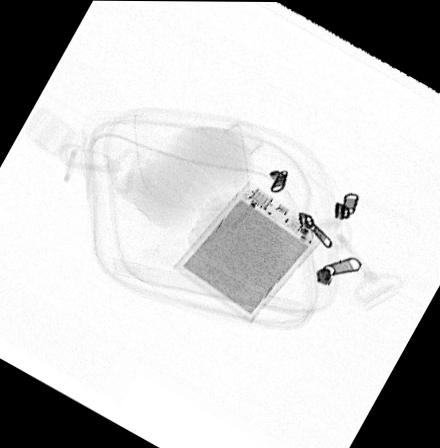Powerbank: (172, 179, 327, 323)
